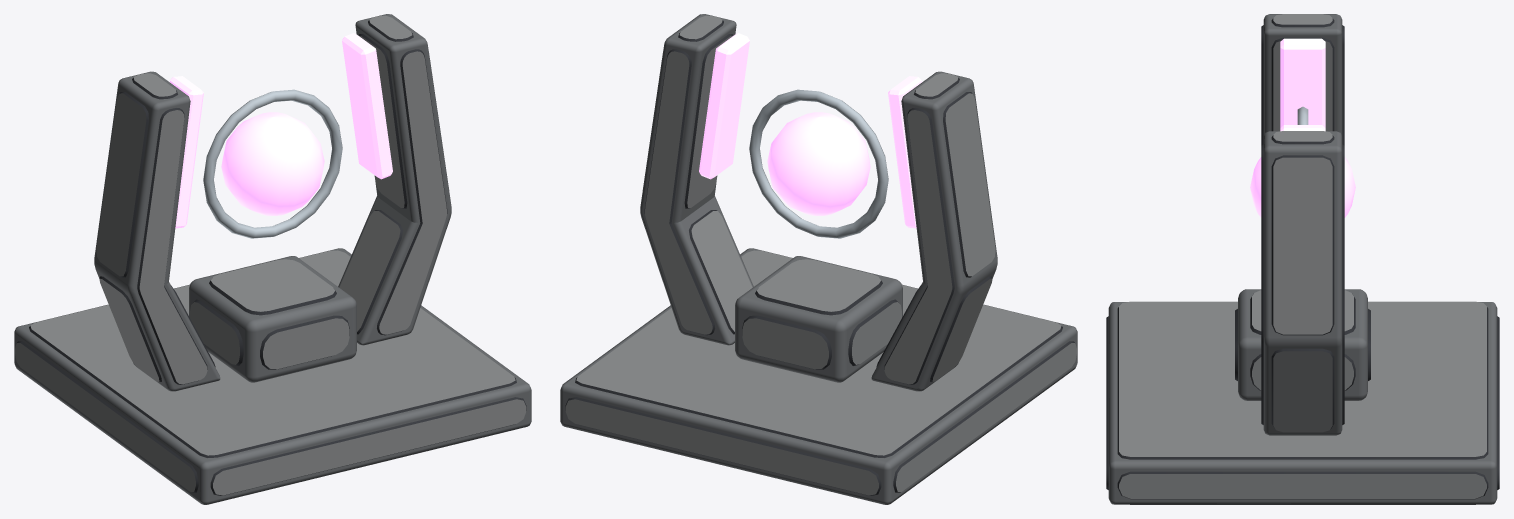
The model's file is R4X_Blink.glb.
3 renders of one model, left to right at view 1: azimuth 30°, elevation 25°; view 2: azimuth 150°, elevation 25°; view 3: azimuth 270°, elevation 25°, orthographic.
Parts seen in each view (by area): view 1: R4X_Blink_Body; view 2: R4X_Blink_Body; view 3: R4X_Blink_Body.
Boxes of the visible parts, bbox=[...] form: R4X_Blink_Body: bbox=[14, 14, 531, 504]; R4X_Blink_Body: bbox=[560, 14, 1077, 504]; R4X_Blink_Body: bbox=[1106, 14, 1499, 504].
Size of the model in its own units: 0.52 by 0.51 by 0.52.
